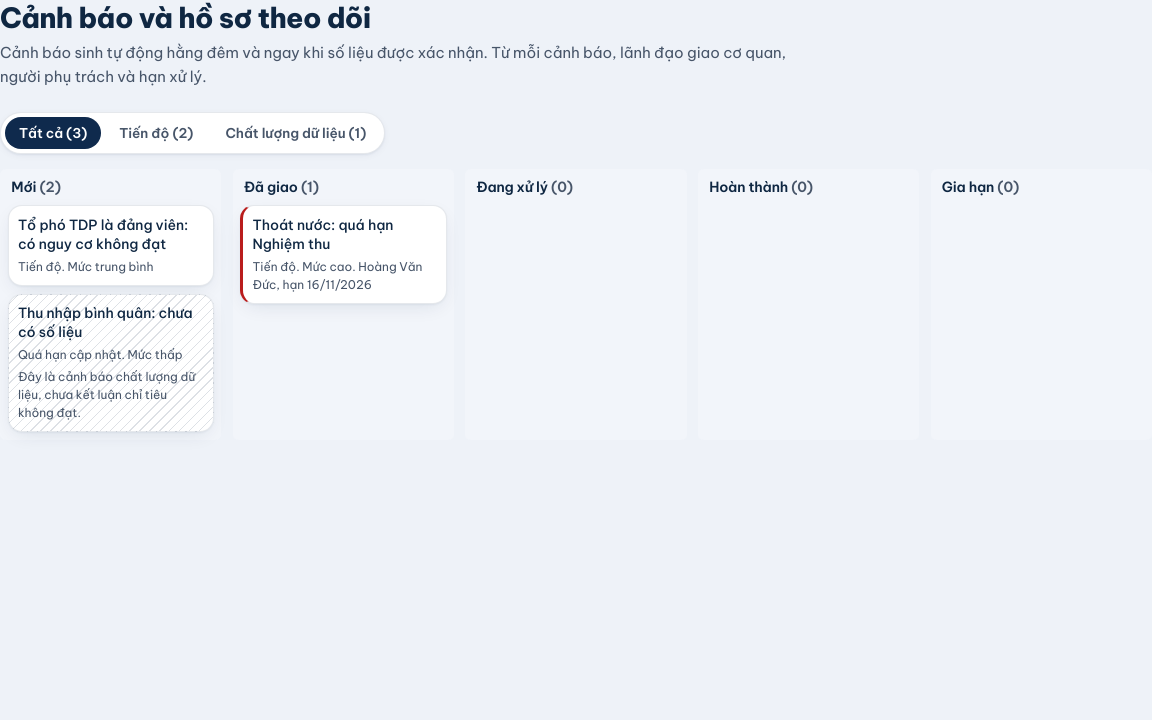
Scenario: Cảnh báo và hồ sơ theo dõi › đóng hồ sơ phải có kết quả xử lý
The image size is (1152, 720).
Click the button "Thoát nước: quá hạn Nghiệm thu": coordinates (343, 255) [240,205,446,304]
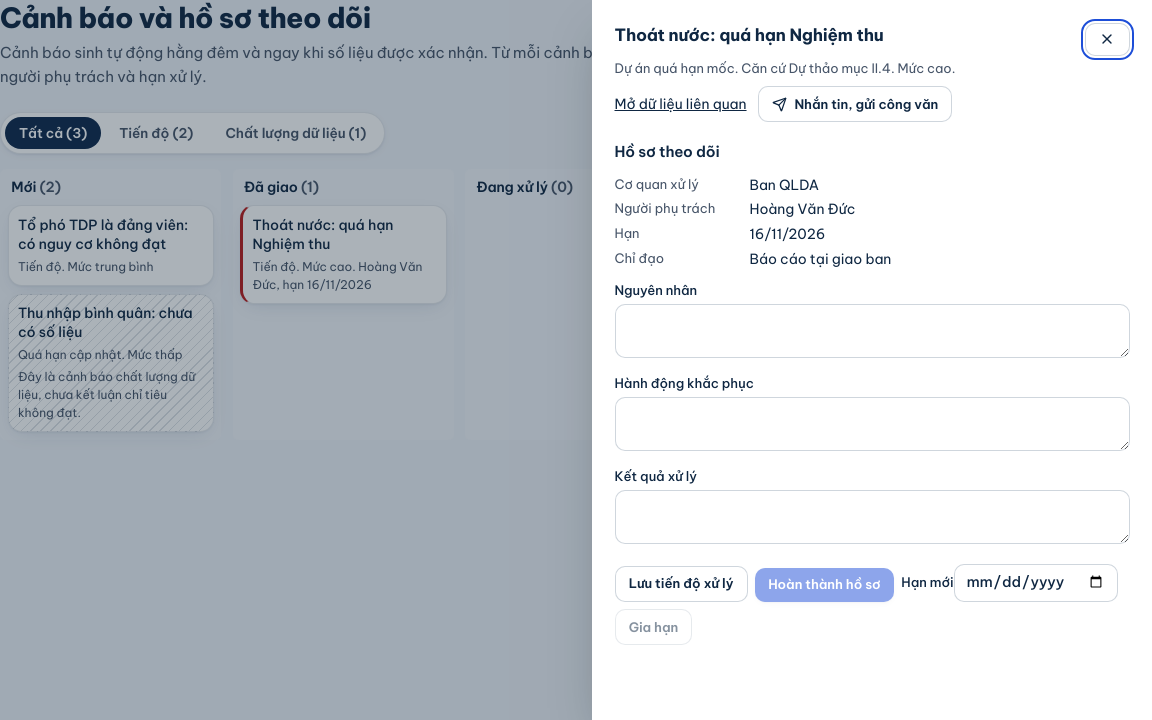
Result: the text "Hoàng Văn Đức" is shown at [750,200,855,218]
Result: the button "Hoàn thành hồ sơ" is disabled at [755,568,894,602]
In the text box labelled "Kết quả xử lý": coordinates (872, 517) [614,490,1130,544], type "Đã nghiệm thu ngày 20/11"
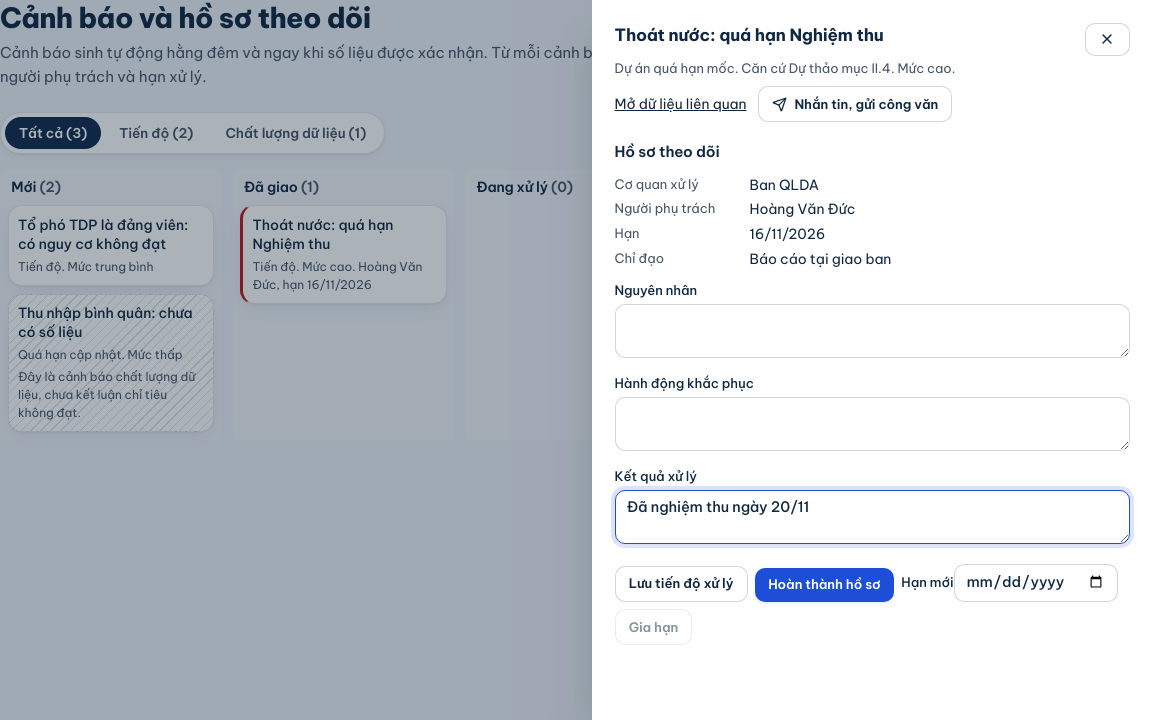
Result: the button "Hoàn thành hồ sơ" is enabled at [755,568,894,602]
